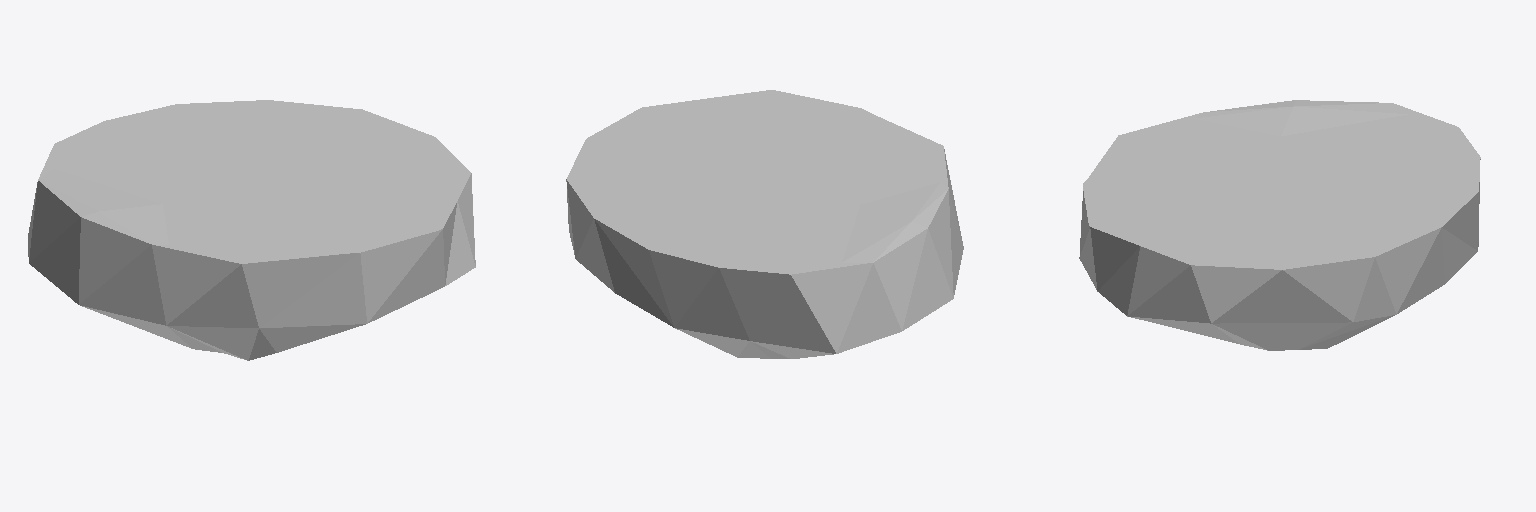
File: platform.obj
The picture shows the model from 3 angles: view 1: azimuth 30°, elevation 25°; view 2: azimuth 150°, elevation 25°; view 3: azimuth 270°, elevation 25°; orthographic projection.
Visible parts, largest first — view 1: rock3_Cylinder.011; view 2: rock3_Cylinder.011; view 3: rock3_Cylinder.011.
Part boxes in pixels (x1,y1,x2,y2): rock3_Cylinder.011: (28, 100, 475, 360); rock3_Cylinder.011: (566, 90, 963, 358); rock3_Cylinder.011: (1079, 100, 1480, 350).
Bounding box in the file's own units: 1.5 × 0.5991 × 1.43.